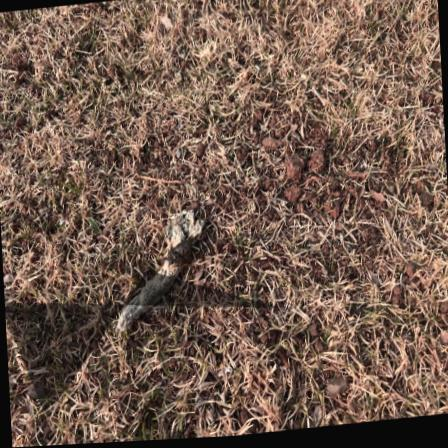dog-poop: (101, 207, 221, 336)
